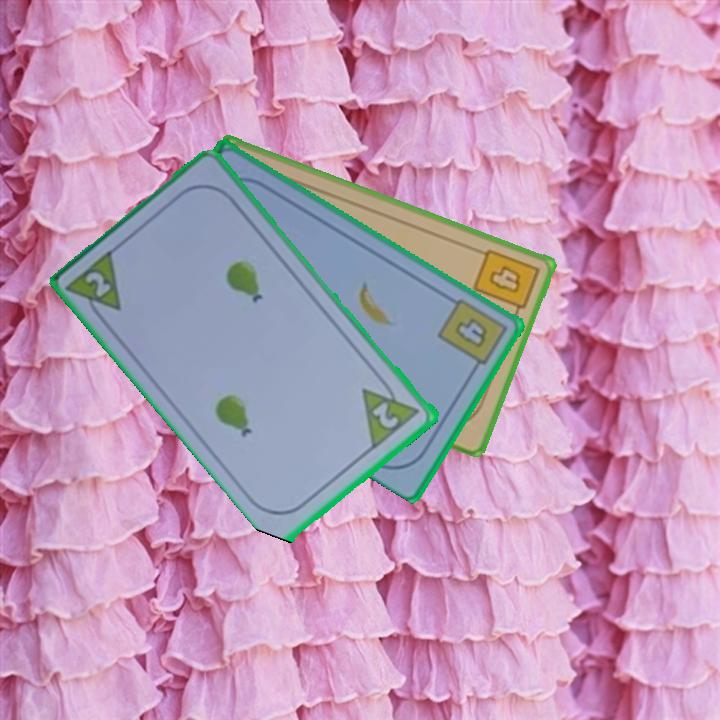2p: (64, 245, 126, 328), (359, 372, 424, 451)
4b: (434, 294, 510, 376), (469, 245, 542, 321)
